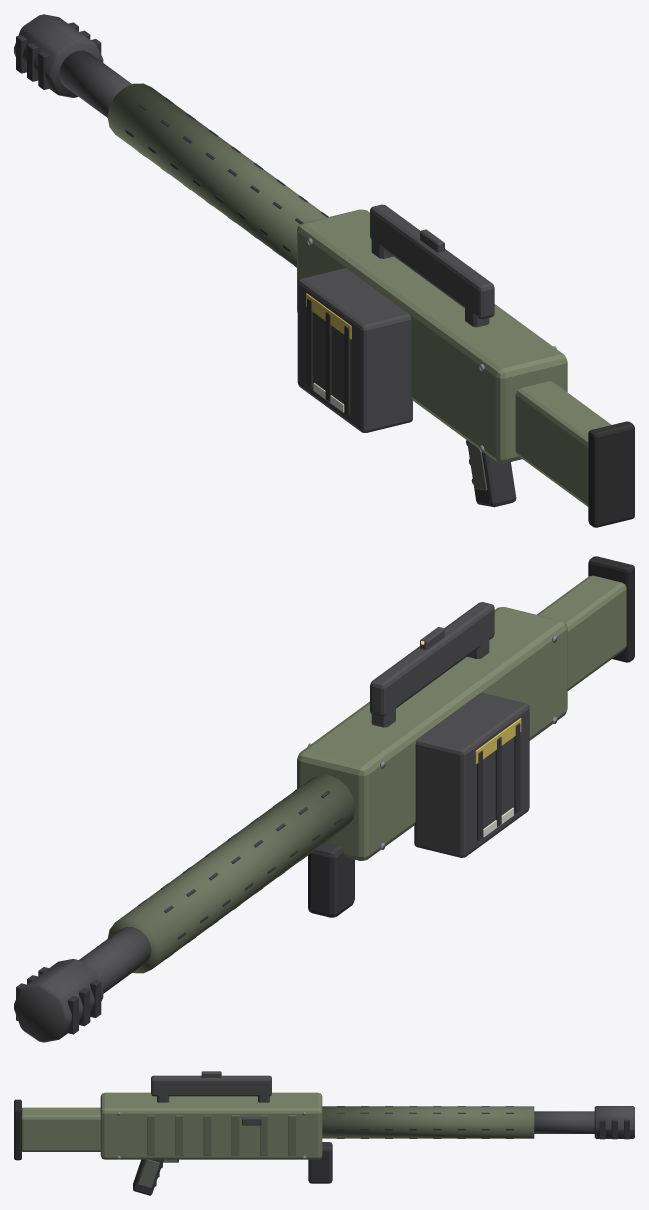
Rendered from autocannon.glb.
3 renders of one model, top to bottom at view 1: azimuth 30°, elevation 25°; view 2: azimuth 150°, elevation 25°; view 3: azimuth 270°, elevation 25°, orthographic. The views are drawn at different scales.
Visible parts, largest first — view 1: Autocannon; view 2: Autocannon; view 3: Autocannon.
Boxes of the visible parts, x1,y1,x2,y2 form: Autocannon: (14,14,634,527); Autocannon: (14,556,634,1042); Autocannon: (14,1071,634,1195).
Size of the model in its own units: 0.196 by 0.3309 by 1.54.
